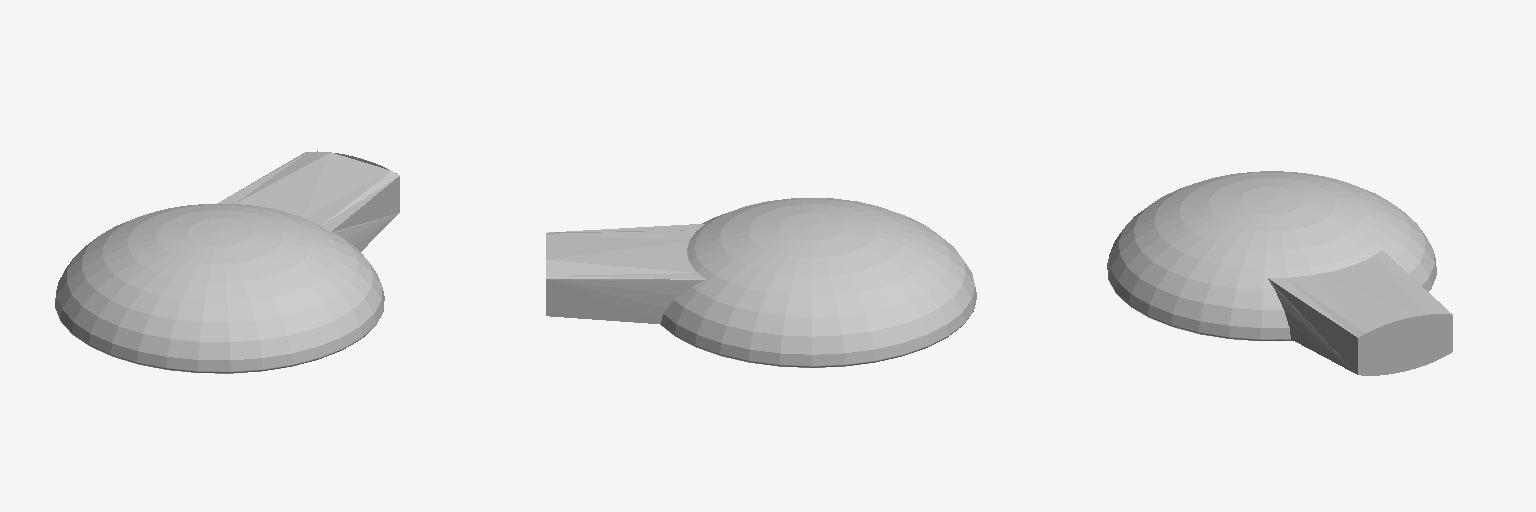
File: castanetsv2WIP_cima.obj
3 renders of one model, left to right at view 1: azimuth 30°, elevation 25°; view 2: azimuth 150°, elevation 25°; view 3: azimuth 270°, elevation 25°, orthographic.
Parts seen in each view (by area): view 1: Cube.001; view 2: Cube.001; view 3: Cube.001.
Part boxes in pixels (x1,y1,x2,y2): Cube.001: (55, 151, 399, 373); Cube.001: (546, 198, 976, 367); Cube.001: (1107, 171, 1452, 375).
Size of the model in its own units: 2.54 by 0.5 by 2.08.